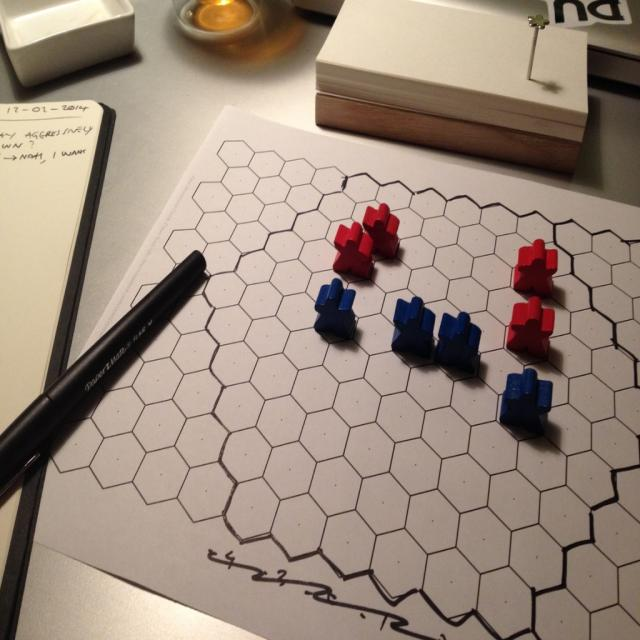pen: (0, 248, 209, 500)
